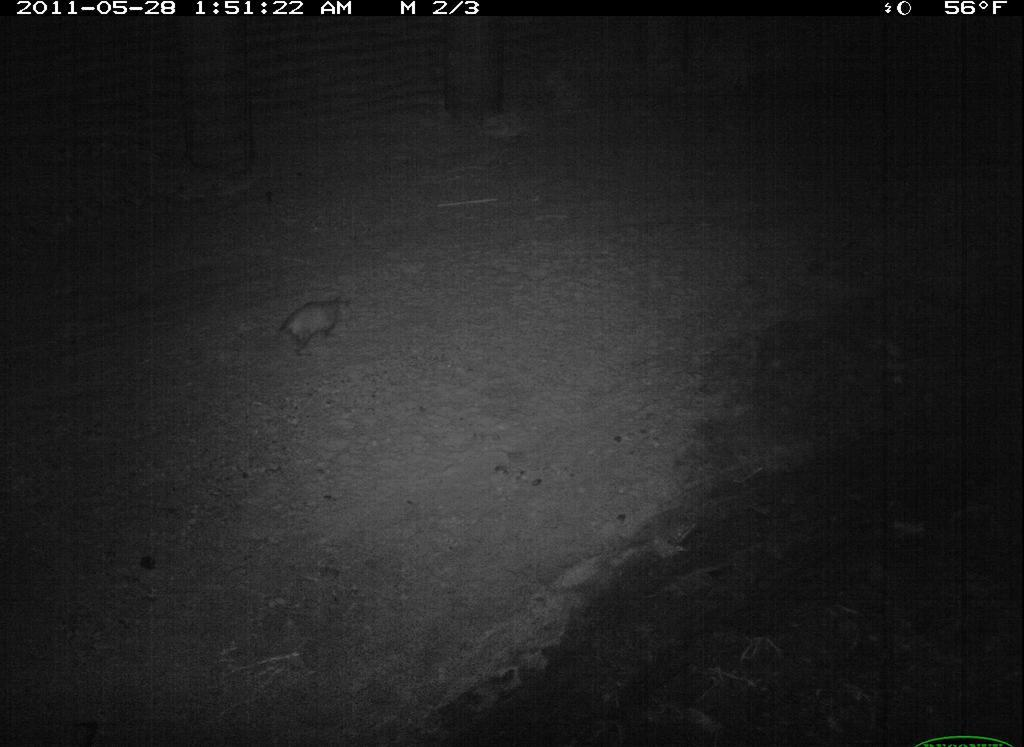opossum: (281, 281, 363, 382)
